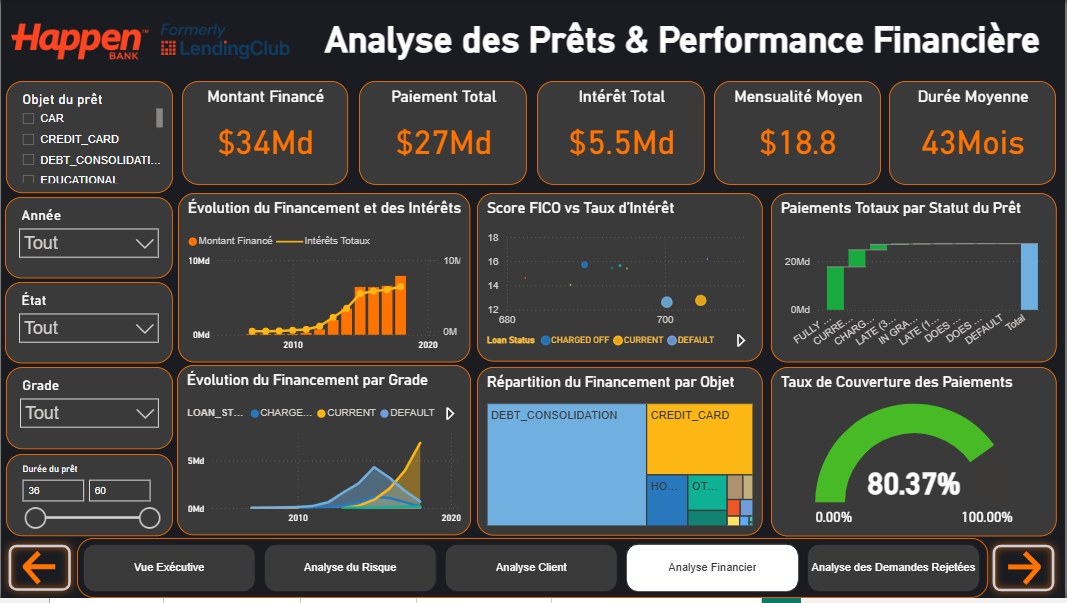

This screenshot's page, from the dashboard's own definition file:
{"tool":"powerbi","page":{"name":"Analyse Financier","canvas":[1280,720],"ordinal":3},"visuals":[{"type":"image","box":[12,8.4,335.9,83.1],"z":0},{"type":"textbox","box":[361.2,18.1,918.7,71],"z":1000},{"type":"cardVisual","title":"Montant Financé","fields":{"Data":["Sum(FACT_ACCEPTED_LOANS.FUNDED_AMOUNT)"]},"box":[217.5,97.7,199.6,125.2],"z":2000},{"type":"cardVisual","title":"Paiement Total","fields":{"Data":["Sum(FACT_ACCEPTED_LOANS.TOTAL_PYMNT)"]},"box":[430.8,97.7,202.3,125.2],"z":3000},{"type":"cardVisual","title":"Intérêt Total","fields":{"Data":["Sum(FACT_ACCEPTED_LOANS.TOTAL_REC_INT)"]},"box":[645.5,97.7,202.3,125.2],"z":4000},{"type":"cardVisual","title":"Mensualité Moyen","fields":{"Data":["Avg(FACT_ACCEPTED_LOANS.DTI)"]},"box":[858.8,97.7,200.9,125.2],"z":5000},{"type":"pageNavigator","box":[91.5,647.8,1096.9,72.2],"z":6000},{"type":"actionButton","box":[1186,647.8,90.3,72.2],"z":7000},{"type":"cardVisual","title":"Durée Moyenne ","fields":{"Data":["Avg(FACT_ACCEPTED_LOANS.TERM_MONTHS)"]},"box":[1069.4,97.7,200.9,125.2],"z":8000},{"type":"slicer","fields":{"Values":["DIM_DATE.YEAR"]},"box":[5,236.7,201.7,98.3],"z":9000},{"type":"slicer","fields":{"Values":["DIM_STATE.STATE_CODE"]},"box":[5,340,201.7,98.3],"z":10000},{"type":"slicer","fields":{"Values":["DIM_GRADE.GRADE"]},"box":[6,441.9,201.1,98.7],"z":11000},{"type":"slicer","fields":{"Values":["FACT_ACCEPTED_LOANS.TERM_MONTHS"]},"box":[6,546.6,201.1,98.7],"z":12000},{"type":"lineStackedColumnComboChart","title":"Évolution du Financement et des Intérêts","fields":{"Category":["DIM_DATE.YEAR"],"Y":["Sum(FACT_ACCEPTED_LOANS.FUNDED_AMOUNT)"],"Y2":["Sum(FACT_ACCEPTED_LOANS.INTEREST_RATE)"]},"box":[213.3,232.6,352.3,203.7],"z":13000},{"type":"scatterChart","title":"Score FICO vs Taux d’Intérêt","fields":{"Series":["DIM_LOAN_STATUS.LOAN_STATUS"],"Size":["Sum(FACT_ACCEPTED_LOANS.FUNDED_AMOUNT)"],"X":["MESURES.Average FICO"],"Y":["Avg(FACT_ACCEPTED_LOANS.INTEREST_RATE)"]},"box":[573.1,232.4,344.3,203.5],"z":14000},{"type":"areaChart","title":"Évolution du Financement par Grade","fields":{"Category":["DIM_DATE.YEAR"],"Series":["DIM_LOAN_STATUS.LOAN_STATUS"],"Y":["Sum(FACT_ACCEPTED_LOANS.FUNDED_AMOUNT)"]},"box":[212,439.1,353.7,205.1],"z":15000},{"type":"treemap","title":"Répartition du Financement par Objet","fields":{"Group":["DIM_PURPOSE.PURPOSE"],"Values":["Sum(FACT_ACCEPTED_LOANS.FUNDED_AMOUNT)"]},"box":[573.1,441.9,344.3,203.5],"z":16000},{"type":"waterfallChart","title":"Paiements Totaux par Statut du Prêt","fields":{"Category":["DIM_LOAN_STATUS.LOAN_STATUS"],"Y":["Sum(FACT_ACCEPTED_LOANS.TOTAL_PYMNT)"]},"box":[927.1,232.9,344.1,203.7],"z":17000},{"type":"gauge","title":"Taux de Couverture des Paiements","fields":{"Y":["MESURES.Payment Coverage %"]},"box":[927.1,441.4,344.1,203.7],"z":18000},{"type":"actionButton","box":[1.4,648.3,90.8,71.6],"z":19000},{"type":"slicer","fields":{"Values":["DIM_PURPOSE.PURPOSE"]},"box":[6,97.5,201.1,134.8],"z":20000}]}

Visuals, with their boxes in screenshot pixels (x1, y1, x2, y2), scaled from the page's 1280x720 canvas onto the 1067x603 screenshot:
image: bbox=[10, 7, 290, 77]
textbox: bbox=[301, 15, 1066, 75]
"Montant Financé" cardVisual: bbox=[181, 82, 348, 187]
"Paiement Total" cardVisual: bbox=[359, 82, 528, 187]
"Intérêt Total" cardVisual: bbox=[538, 82, 707, 187]
"Mensualité Moyen" cardVisual: bbox=[716, 82, 883, 187]
pageNavigator: bbox=[76, 543, 991, 602]
actionButton: bbox=[989, 543, 1064, 602]
"Durée Moyenne " cardVisual: bbox=[891, 82, 1059, 187]
slicer - DIM_DATE.YEAR: bbox=[4, 198, 172, 281]
slicer - DIM_STATE.STATE_CODE: bbox=[4, 285, 172, 367]
slicer - DIM_GRADE.GRADE: bbox=[5, 370, 173, 453]
slicer - FACT_ACCEPTED_LOANS.TERM_MONTHS: bbox=[5, 458, 173, 540]
"Évolution du Financement et des Intérêts" lineStackedColumnComboChart: bbox=[178, 195, 471, 365]
"Score FICO vs Taux d’Intérêt" scatterChart: bbox=[478, 195, 765, 365]
"Évolution du Financement par Grade" areaChart: bbox=[177, 368, 472, 540]
"Répartition du Financement par Objet" treemap: bbox=[478, 370, 765, 541]
"Paiements Totaux par Statut du Prêt" waterfallChart: bbox=[773, 195, 1060, 366]
"Taux de Couverture des Paiements" gauge: bbox=[773, 370, 1060, 540]
actionButton: bbox=[1, 543, 77, 602]
slicer - DIM_PURPOSE.PURPOSE: bbox=[5, 82, 173, 195]
